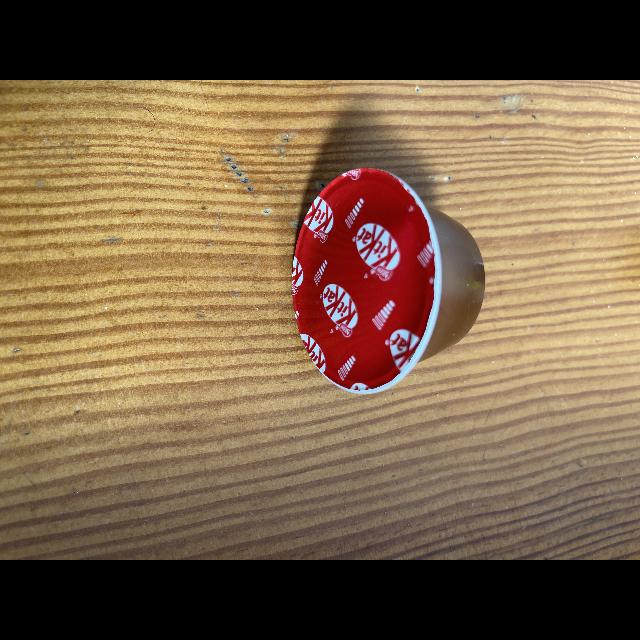intact_capsule: (282, 157, 506, 435)
